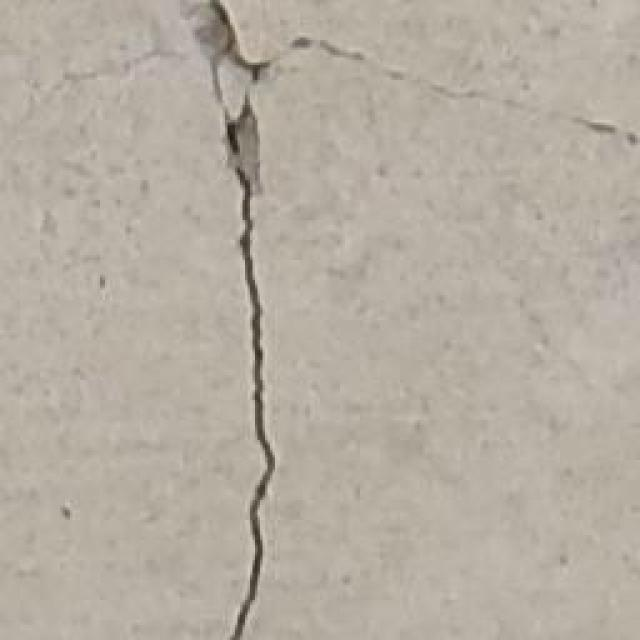concrete-crack: (180, 0, 640, 640)
